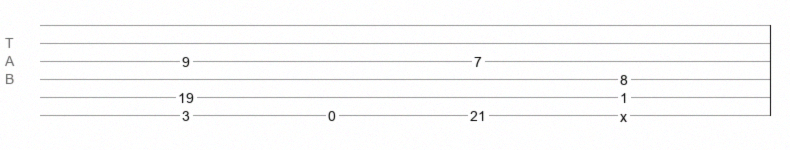0: (328, 108, 336, 118)
1: (620, 90, 628, 100)
19: (178, 90, 194, 100)
21: (470, 108, 486, 118)
3: (182, 108, 190, 118)
7: (474, 54, 482, 64)
8: (620, 72, 628, 82)
9: (182, 54, 190, 64)
x: (620, 109, 627, 117)
